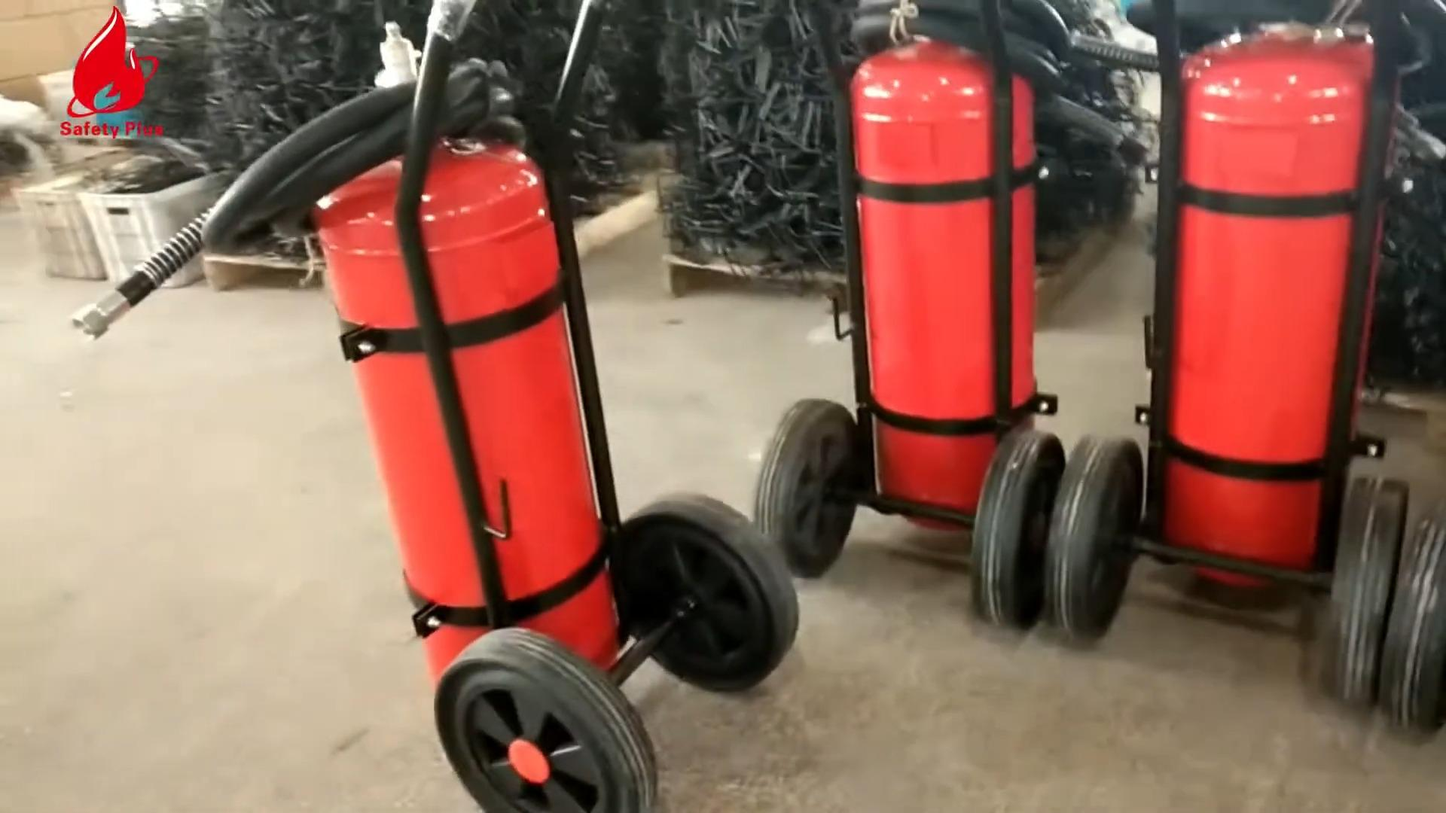FireExtinguisher: (286, 40, 633, 780), (1128, 4, 1399, 637), (810, 10, 1055, 565)
